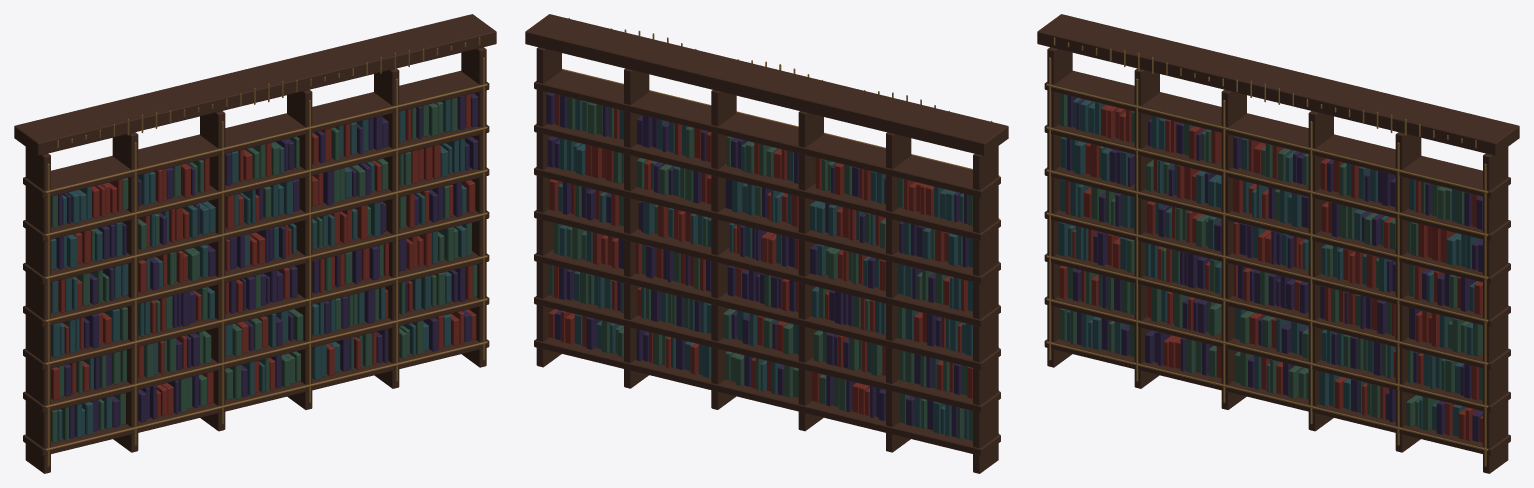
File: stacks-kit.glb
3 views of the same model, side by side, from view 1: azimuth 30°, elevation 25°; view 2: azimuth 150°, elevation 25°; view 3: azimuth 330°, elevation 25° (orthographic).
Visible parts, largest first — view 1: Stacks_Wood, Stacks_Books_1, Stacks_Books_3, Stacks_Books_0, Stacks_Books_2, Stacks_Brass; view 2: Stacks_Wood, Stacks_Books_1, Stacks_Books_3, Stacks_Books_0, Stacks_Books_2, Stacks_Brass; view 3: Stacks_Wood, Stacks_Books_1, Stacks_Books_0, Stacks_Books_3, Stacks_Books_2, Stacks_Brass.
Part boxes in pixels (x1,y1,x2,y2): Stacks_Wood: [14, 14, 496, 473]; Stacks_Books_1: [55, 93, 478, 438]; Stacks_Books_3: [51, 99, 466, 440]; Stacks_Books_0: [51, 94, 476, 417]; Stacks_Books_2: [51, 97, 477, 442]; Stacks_Brass: [45, 37, 487, 466]; Stacks_Wood: [525, 14, 1008, 473]; Stacks_Books_1: [546, 92, 968, 437]; Stacks_Books_3: [558, 99, 972, 439]; Stacks_Books_0: [548, 94, 972, 415]; Stacks_Books_2: [548, 97, 972, 440]; Stacks_Brass: [562, 18, 999, 434]; Stacks_Wood: [1037, 14, 1519, 473]; Stacks_Books_1: [1066, 95, 1482, 441]; Stacks_Books_0: [1059, 105, 1482, 442]; Stacks_Books_3: [1058, 98, 1479, 436]; Stacks_Books_2: [1059, 93, 1482, 430]; Stacks_Brass: [1046, 37, 1488, 466].
Size of the model in its own units: 8.17 by 5.77 by 0.799.
